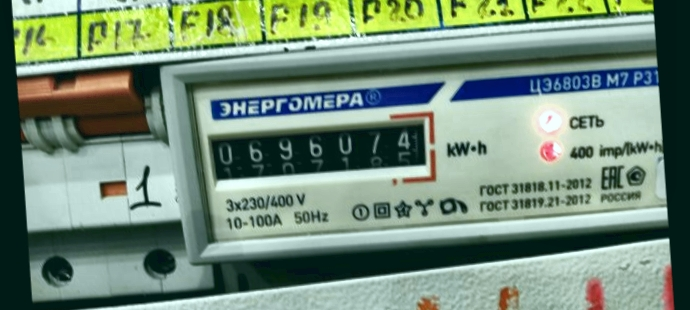0: (211, 139, 231, 164), (332, 128, 350, 154)
4: (390, 124, 407, 148)
5: (393, 149, 410, 165)
6: (303, 130, 322, 157), (242, 137, 261, 162)
7: (362, 127, 381, 153)
9: (272, 134, 290, 161)
screen: (193, 106, 437, 191)
